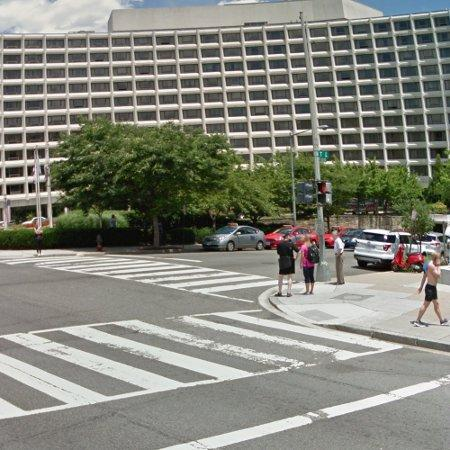crosswalks: (0, 311, 402, 420)
